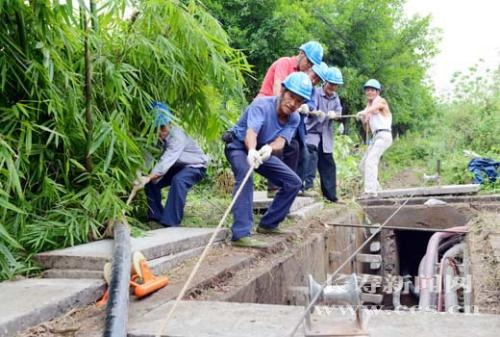blue: (276, 70, 314, 116), (145, 102, 172, 139), (295, 40, 323, 70), (324, 66, 342, 94), (308, 62, 328, 86), (363, 77, 382, 101)
